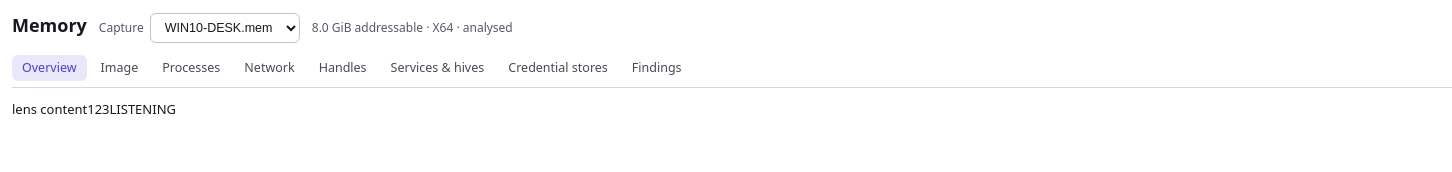
Test case: MemoryLayout › drops a selected pid when the capture changes, so one machine s process is not shown under another
Check: the text "lens content" is shown, box [12, 100, 87, 118]
Check: the text with test id "lens-pid" reads "123", box [87, 100, 110, 118]
Select "SERVER.raw" in the dropdown labelled "Capture" at (225, 28), box [150, 13, 300, 43]
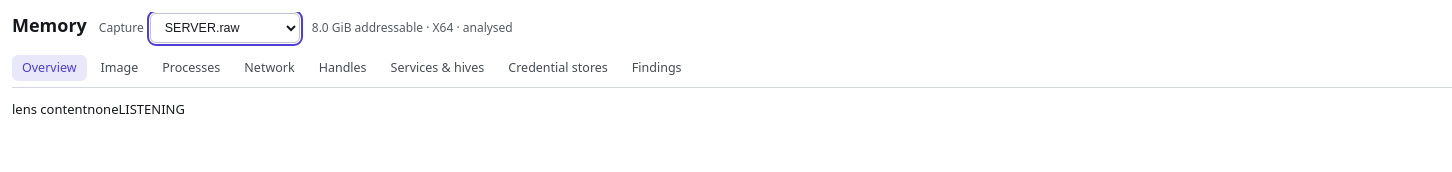
Check: the text with test id "lens-state" reads "LISTENING", box [118, 100, 185, 118]
Check: the text with test id "lens-pid" reads "none", box [87, 100, 118, 118]
